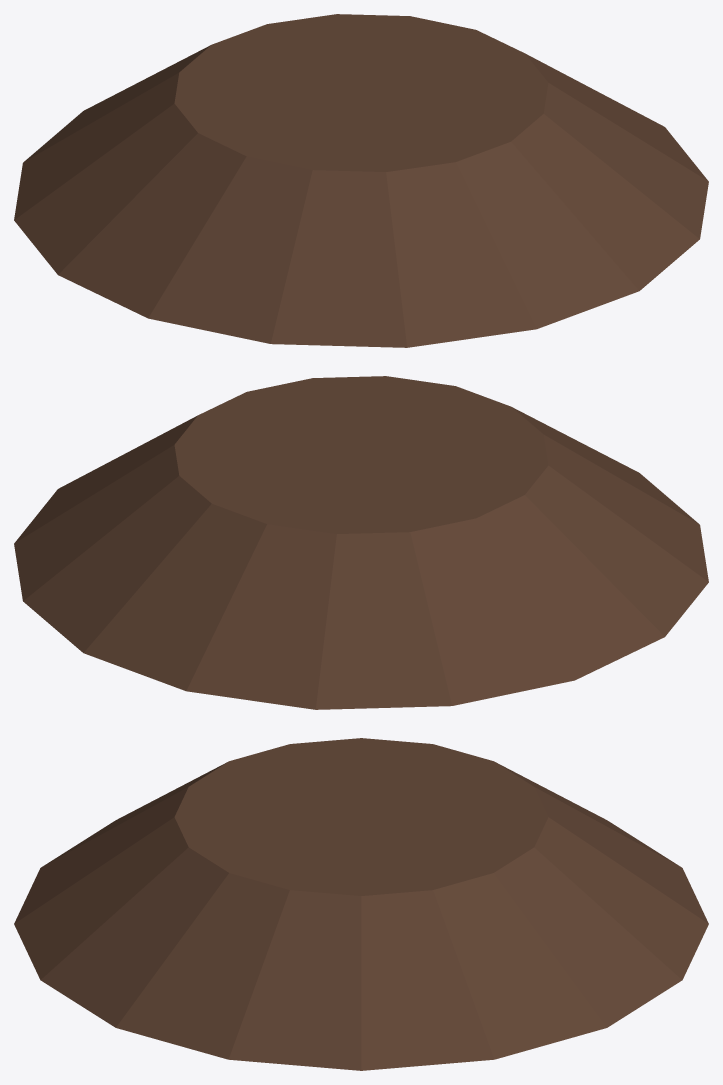
The model's file is light.gltf.
3 renders of one model, top to bottom at view 1: azimuth 30°, elevation 25°; view 2: azimuth 150°, elevation 25°; view 3: azimuth 270°, elevation 25°, orthographic.
Visible parts, largest first — view 1: Light; view 2: Light; view 3: Light.
Boxes of the visible parts, x1,y1,x2,y2 form: Light: [14, 14, 708, 347]; Light: [14, 376, 708, 709]; Light: [14, 738, 708, 1070].
Bounding box in the file's own units: 2 × 0.4417 × 2.
